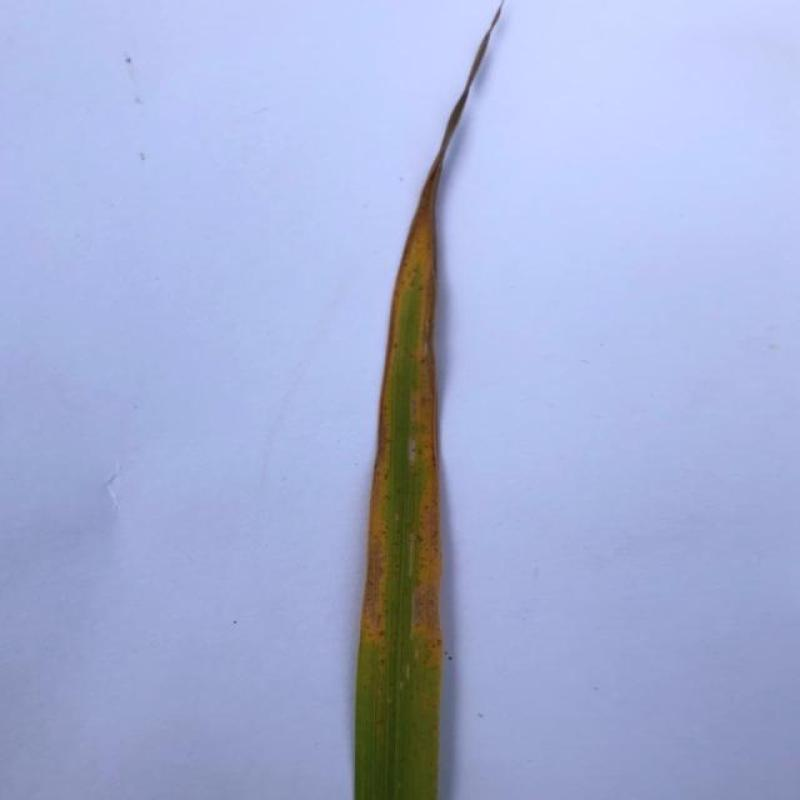Rice Tungro: (356, 0, 456, 800)
